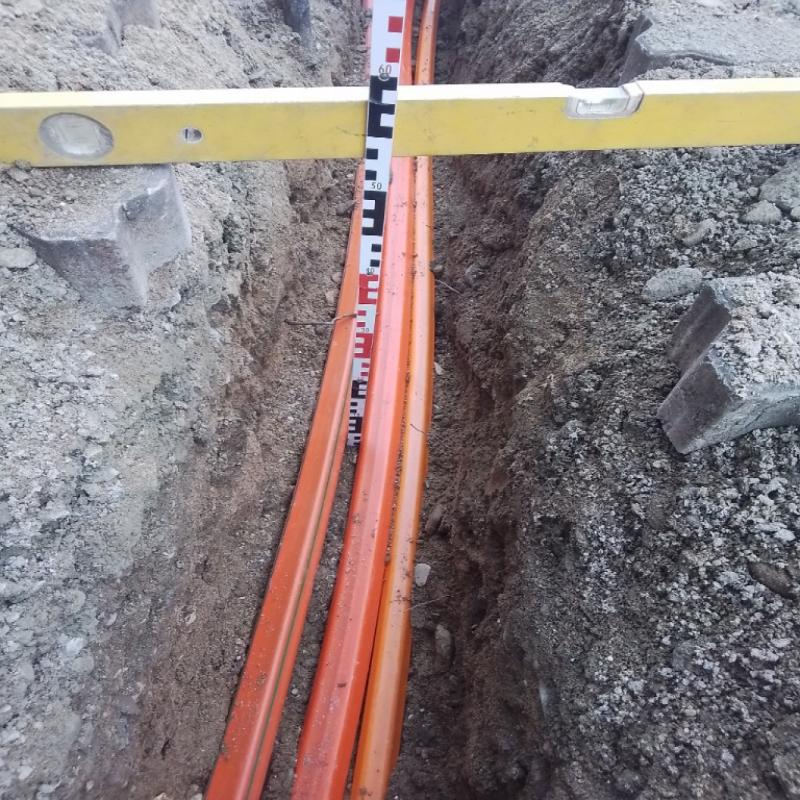Orang-Speednetrohrchen: (202, 159, 429, 800)
